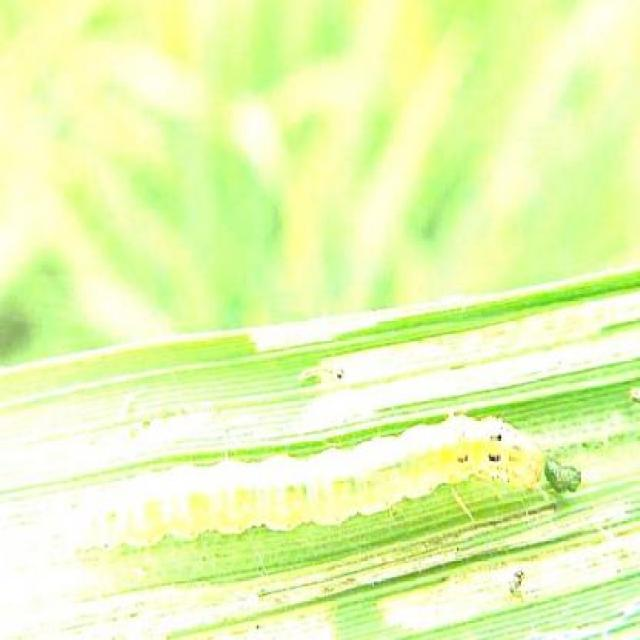leaf-folder: (73, 374, 582, 555)
